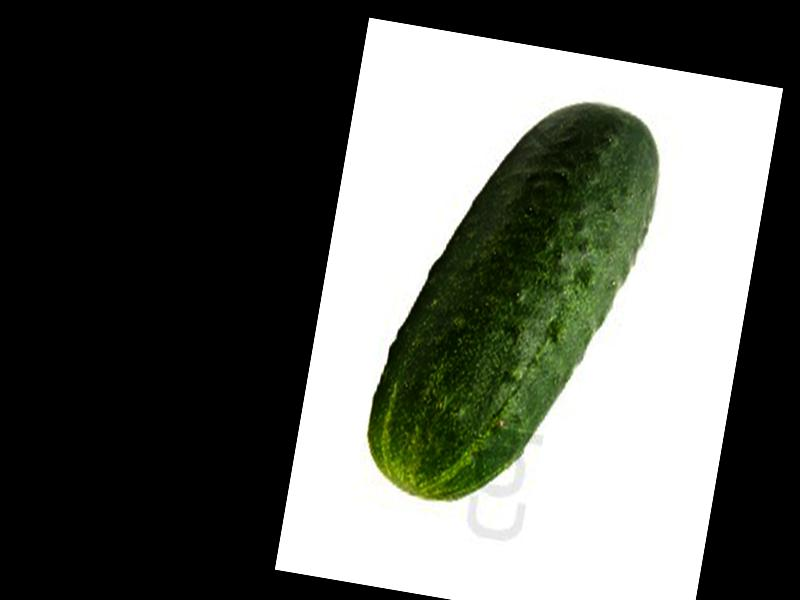Cucumber: (361, 75, 671, 529)
